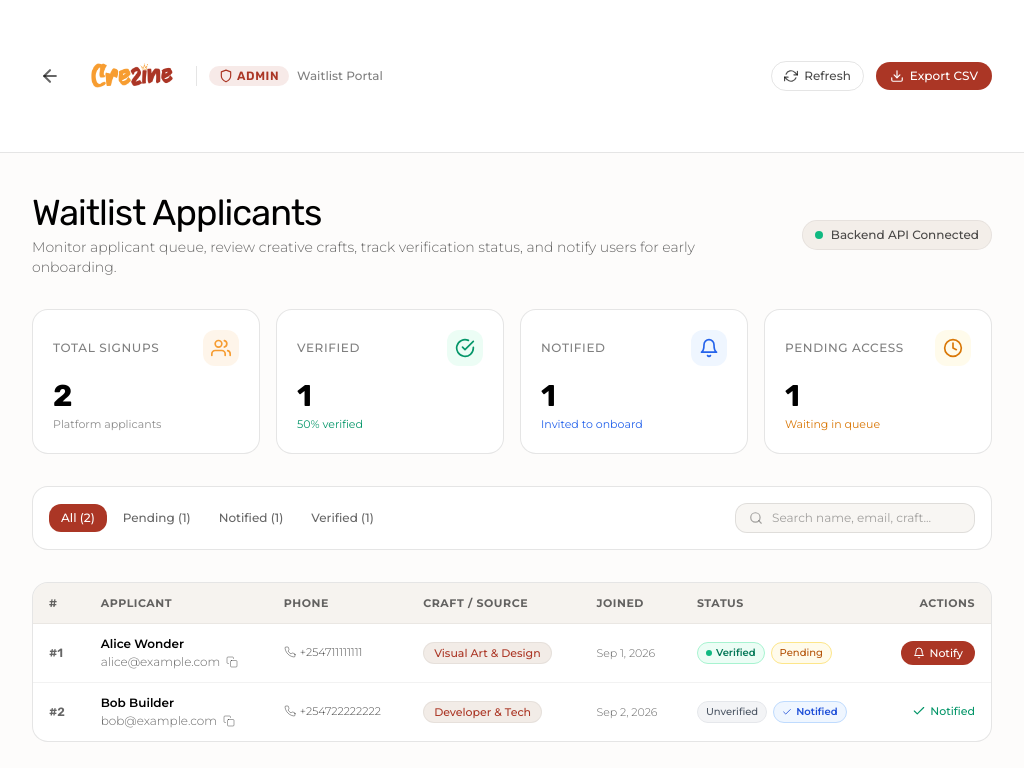
Scenario: WaitlistAdminView (Admin Table, Metrics & Actions) › filters applicants by tab
Expected: the text "Alice Wonder" is shown, [101, 636, 184, 651]
# Filter to Pending
Click the button "Pending (1)": point(157, 518) [111, 504, 203, 532]
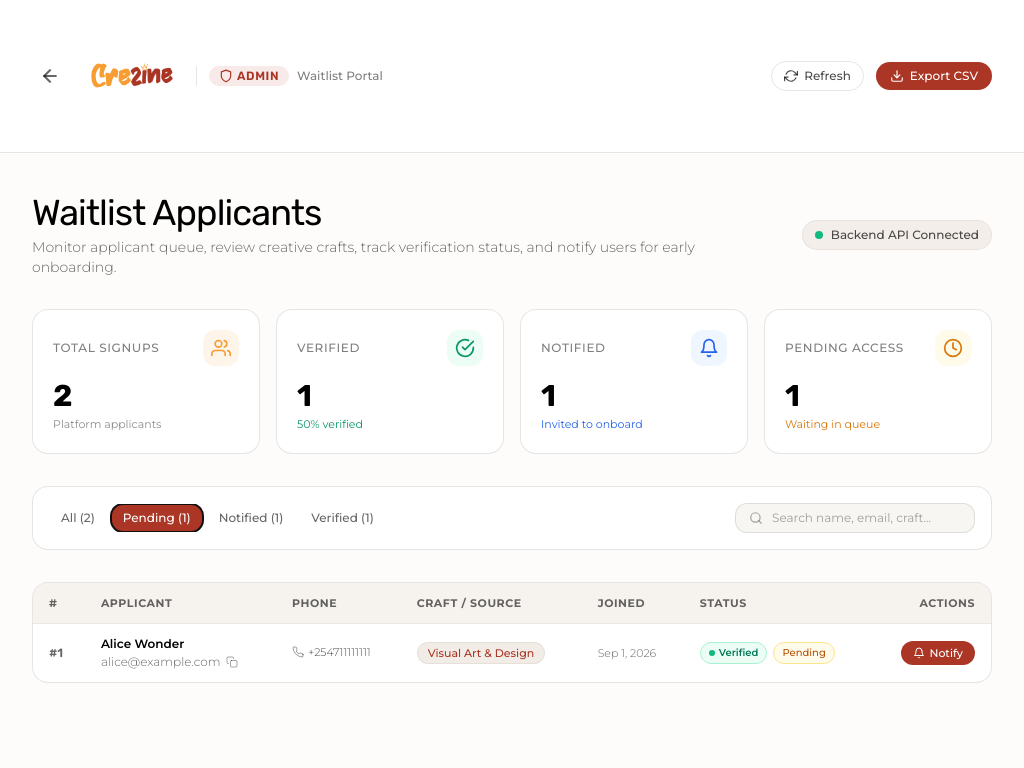
Expected: the text "Alice Wonder" is shown, [101, 636, 184, 651]
Expected: the text "Bob Builder" is gone
# Filter to Notified
Click the button "Notified (1)": point(251, 518) [207, 504, 295, 532]
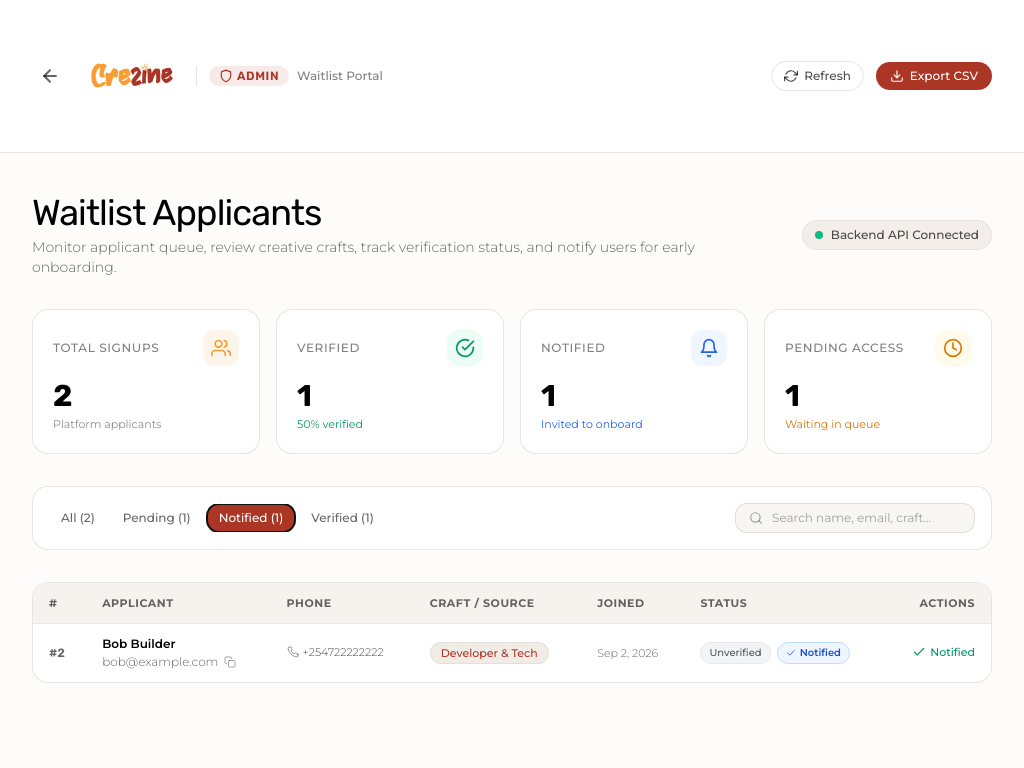
Expected: the text "Alice Wonder" is gone
Expected: the text "Bob Builder" is shown, [102, 636, 176, 651]
